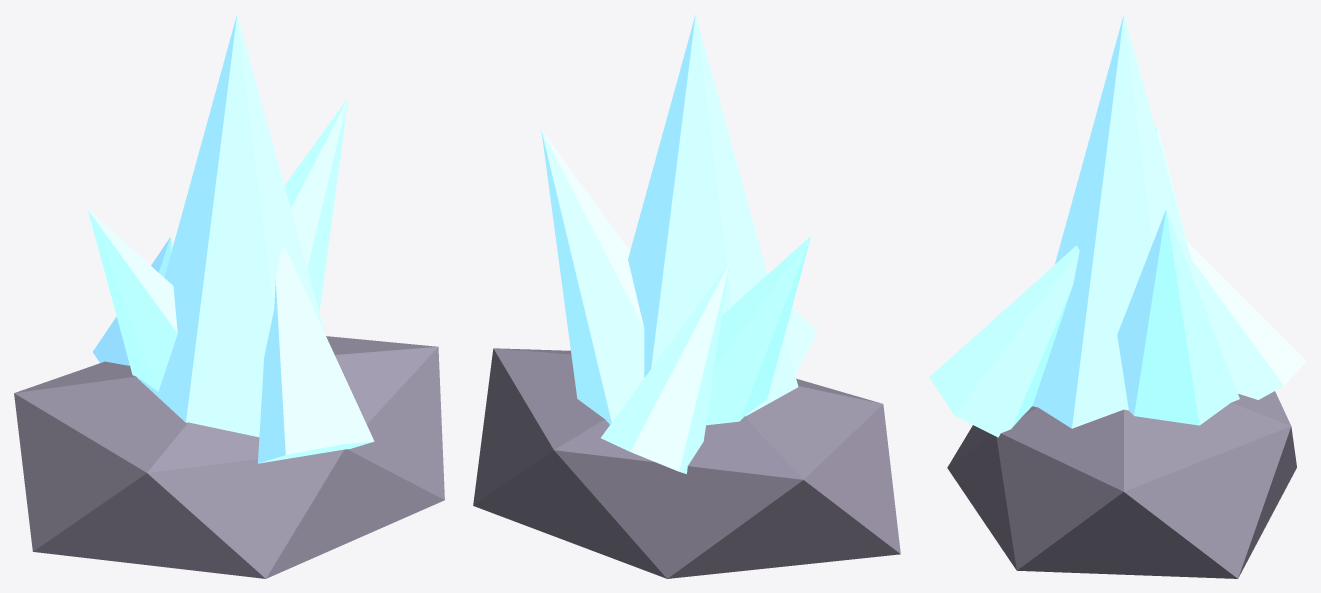
The model's file is crystal.glb.
3 views of the same model, side by side, from view 1: azimuth 30°, elevation 25°; view 2: azimuth 150°, elevation 25°; view 3: azimuth 270°, elevation 25° (orthographic).
Visible parts, largest first — view 1: Crystal; view 2: Crystal; view 3: Crystal.
Part boxes in pixels (x1=…): Crystal: x1=14, y1=14, x2=444, y2=578; Crystal: x1=473, y1=14, x2=900, y2=578; Crystal: x1=929, y1=14, x2=1306, y2=578.
Bounding box in the file's own units: 0.5519 × 0.7035 × 0.4472.
